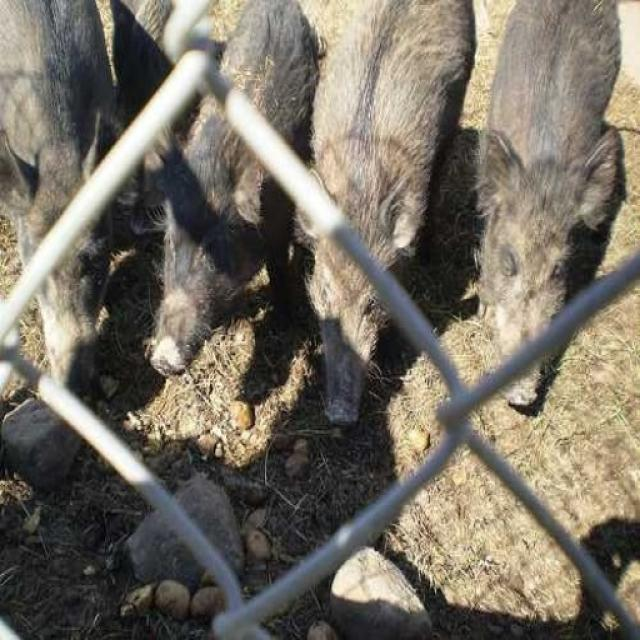pig: (302, 0, 450, 476), (469, 0, 627, 409), (132, 0, 292, 366), (0, 0, 125, 393)
